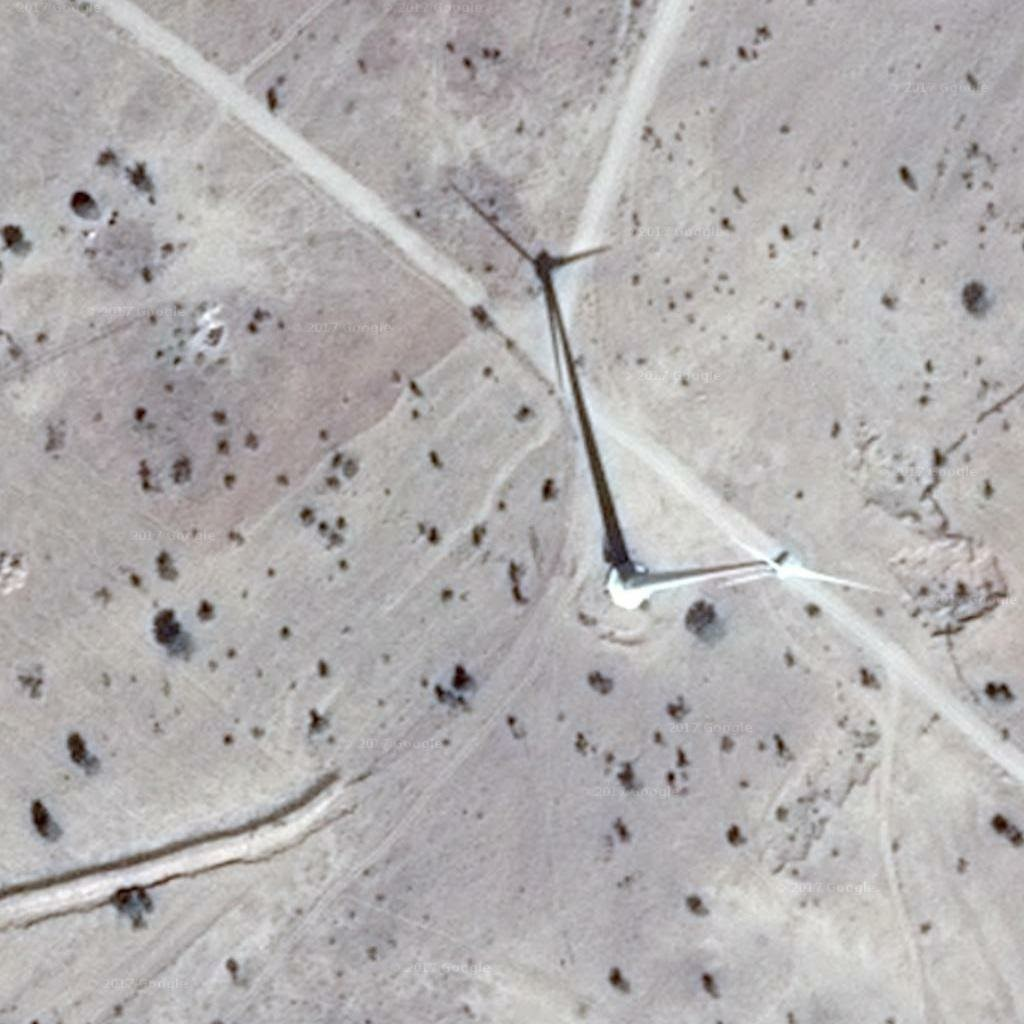Windmill: (439, 171, 647, 562)
